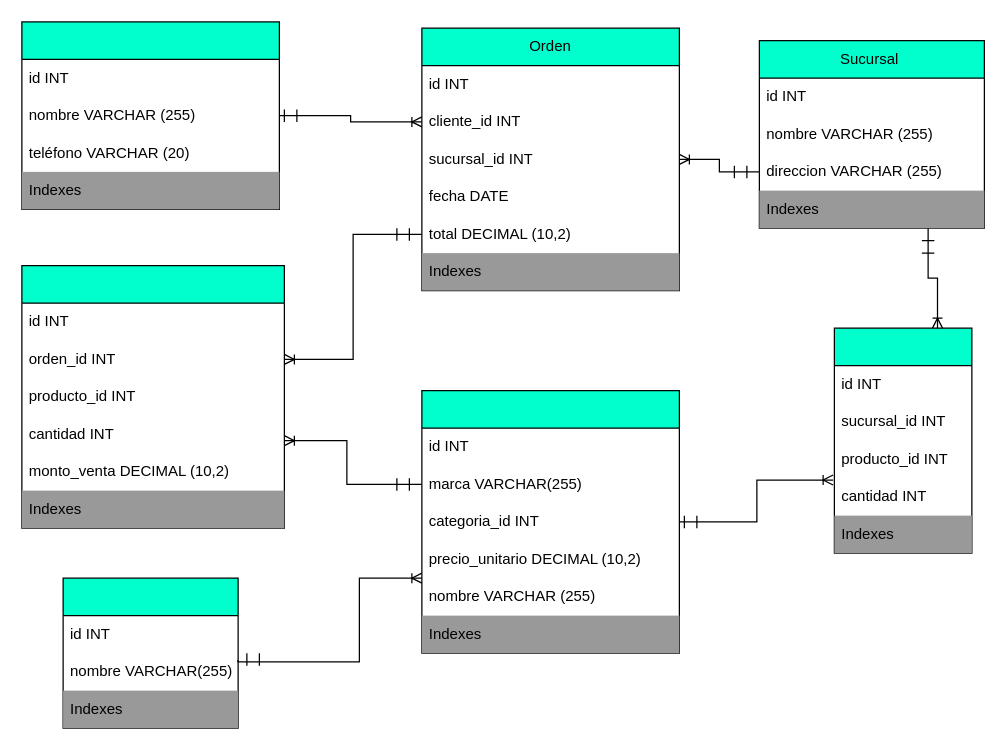
Image size: 1006x750. Some labels were removed from this diagram. Here are the shapes that lost their labels. From the top down, the box of each, then its label:
(21, 21, 279, 209): Cliente
(21, 264, 284, 528): Item
(833, 327, 972, 553): Stock
(421, 389, 679, 653): Producto
(62, 577, 238, 728): Categoria
